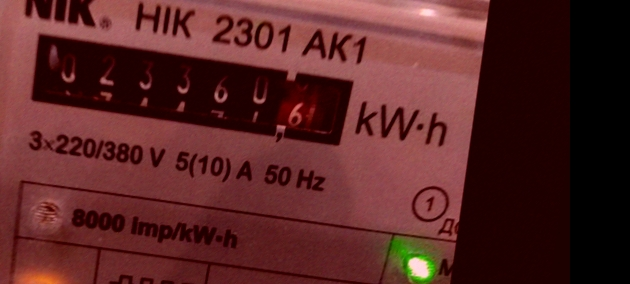0: (57, 47, 83, 85), (249, 70, 275, 108)
2: (97, 51, 122, 88)
3: (135, 56, 160, 94), (174, 61, 197, 97)
6: (210, 69, 235, 105), (286, 94, 308, 130)
screen: (15, 19, 376, 166)
